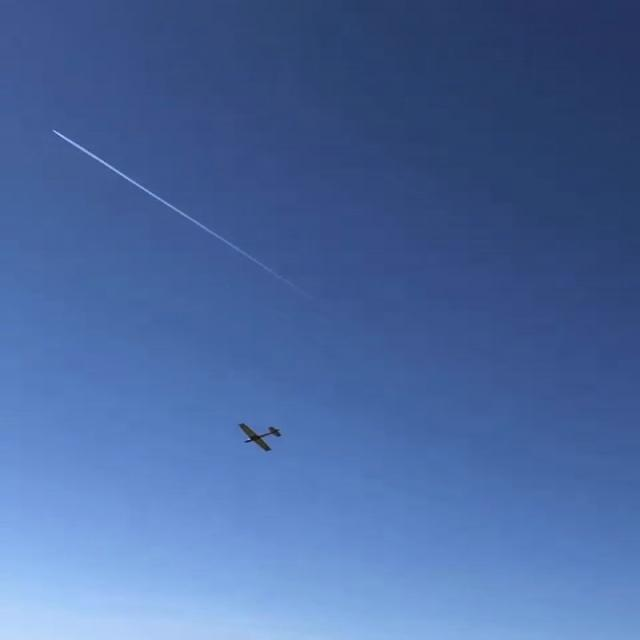iha: (234, 414, 286, 456)
